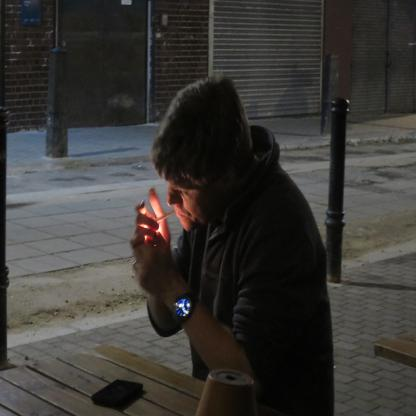smoking: (146, 208, 178, 224)
